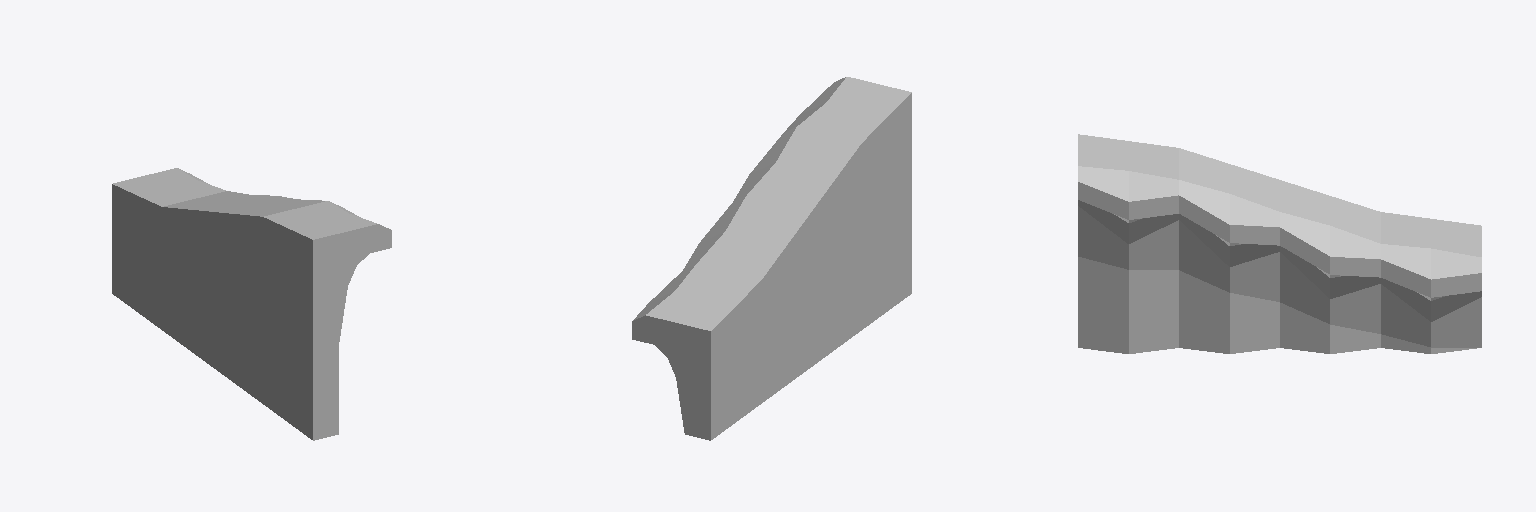
Rendered from Cliff_Top_Hill_Gentle.obj.
3 renders of one model, left to right at view 1: azimuth 30°, elevation 25°; view 2: azimuth 150°, elevation 25°; view 3: azimuth 270°, elevation 25°, orthographic.
Visible parts, largest first — view 1: object1; view 2: object1; view 3: object1.
Part boxes in pixels (x1,y1,x2,y2): object1: (112,168,391,440); object1: (632,77,911,440); object1: (1078,134,1481,353).
Size of the model in its own units: 1 by 2.2 by 4.